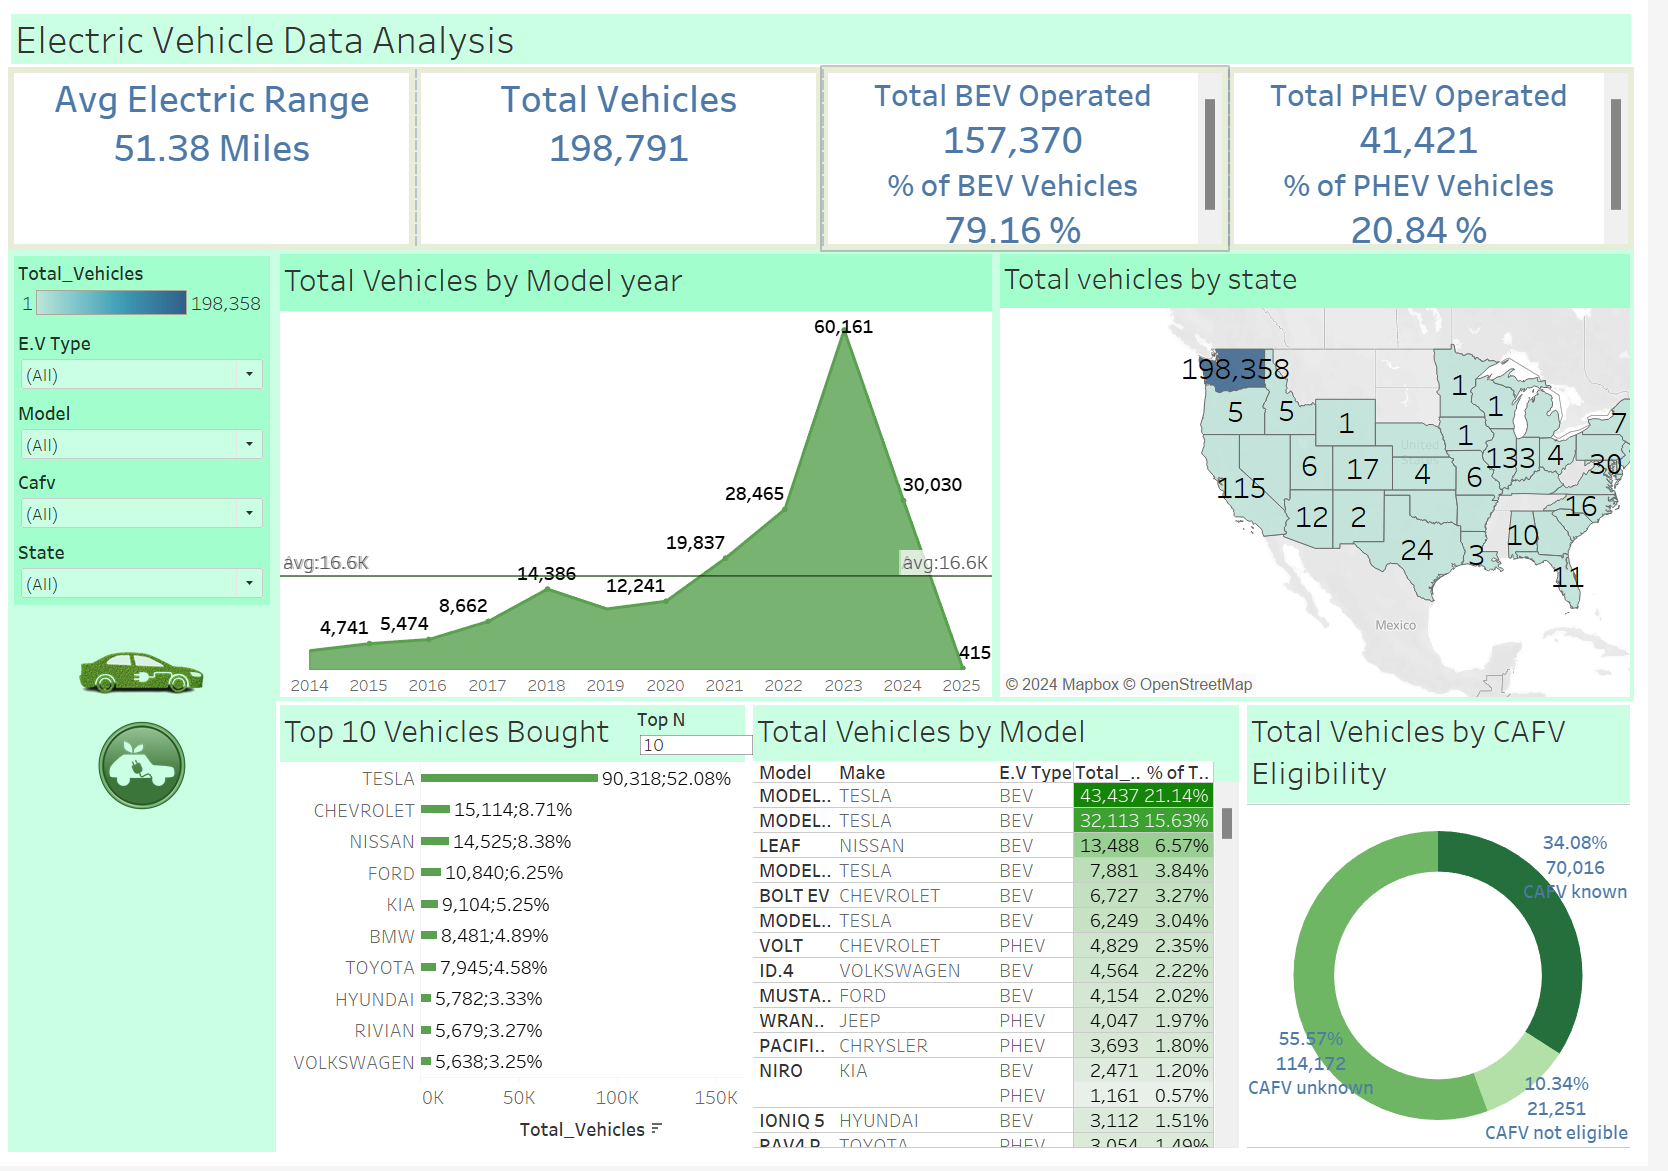

What the dashboard file says about the page in this screenshot:
{"tool":"tableau","page":{"name":"Ev_analysis_Dashboard","canvas":[1654,1169],"ordinal":0},"visuals":[{"type":"title","box":[14,14,1626,56]},{"type":"worksheet","title":"Average_Ev_Range","mark":"Automatic","box":[14,70,407,183]},{"type":"worksheet","title":"Total_Vehicles","mark":"Automatic","box":[421,70,407,183]},{"type":"worksheet","title":"Total_BEV_operated","mark":"Automatic","box":[828,70,406,183]},{"type":"worksheet","title":"Total_PHEV_operated","mark":"Automatic","box":[1234,70,406,183]},{"type":"worksheet","title":"Total Vehicles by Model year","mark":"Area","rows":["Calculation_7484982602795368448","Calculation_7484982602795368448"],"cols":["Model Year"],"box":[282,253,720.1,451]},{"type":"worksheet","title":"Total vehicles by state","mark":"Multipolygon","box":[1002.1,253,637.9,451]},{"type":"legend","title":"Total vehicles by state","param":"[federated.0c44xkc10yjfak12o5cvm190ijea].[usr:Calculation_7484982602795368448:qk","box":[20,259,256,69.8]},{"type":"filter","title":"Total Vehicles by Model year","param":"[federated.0c44xkc10yjfak12o5cvm190ijea].[none:E.V_Type:nk]","box":[20,328.8,256,69.8]},{"type":"filter","title":"Total Vehicles by Model year","param":"[federated.0c44xkc10yjfak12o5cvm190ijea].[none:Model:nk]","box":[20,398.6,256,69.8]},{"type":"filter","title":"Total Vehicles by Model year","param":"[federated.0c44xkc10yjfak12o5cvm190ijea].[none:CAFV:nk]","box":[20,468.5,256,69.8]},{"type":"filter","title":"Total Vehicles by Model year","param":"[federated.0c44xkc10yjfak12o5cvm190ijea].[none:State:nk]","box":[20,538.3,256,69.8]},{"type":"image","param":"Image/ev2-removebg-preview.png","box":[14,614.1,268,102.1]},{"type":"worksheet","title":"Top 10 Vehicles Bought","mark":"Automatic","rows":["Make"],"cols":["Calculation_7484982602795368448"],"box":[282,704,473,451]},{"type":"worksheet","title":"Total Vehicles by Model","mark":"Square","rows":["Model","Make","E.V_Type"],"box":[755,704,494.4,451]},{"type":"worksheet","title":"Total Vehicles by CAFV Eligibility","mark":"Pie","rows":["Calculation_7484982602997284871","Calculation_7484982602997284871"],"box":[1249.4,704,390.6,451]},{"type":"parameter","param":"[Parameters].[Parameter 1]","box":[643,709,119,49]},{"type":"image","param":"Image/ev1-removebg-preview.png","box":[14,716.3,268,102.1]},{"type":"blank","box":[14,818.4,268,84.1]},{"type":"blank","box":[14,902.6,268,84.1]},{"type":"blank","box":[14,986.7,268,84.1]},{"type":"blank","box":[14,1070.9,268,84.1]}]}

Visuals, with their boxes in screenshot pixels (x1, y1, x2, y2), scaled from the page's 1654x1169 canvas onto the 1668x1171 screenshot:
title: bbox=[14, 14, 1654, 70]
"Average_Ev_Range" worksheet: bbox=[14, 70, 425, 253]
"Total_Vehicles" worksheet: bbox=[425, 70, 835, 253]
"Total_BEV_operated" worksheet: bbox=[835, 70, 1244, 253]
"Total_PHEV_operated" worksheet: bbox=[1244, 70, 1654, 253]
"Total Vehicles by Model year" worksheet (Area marks): bbox=[284, 253, 1011, 705]
"Total vehicles by state" worksheet (Multipolygon marks): bbox=[1011, 253, 1654, 705]
"Total vehicles by state" legend: bbox=[20, 259, 278, 329]
"Total Vehicles by Model year" filter: bbox=[20, 329, 278, 399]
"Total Vehicles by Model year" filter: bbox=[20, 399, 278, 469]
"Total Vehicles by Model year" filter: bbox=[20, 469, 278, 539]
"Total Vehicles by Model year" filter: bbox=[20, 539, 278, 609]
image: bbox=[14, 615, 284, 717]
"Top 10 Vehicles Bought" worksheet: bbox=[284, 705, 761, 1157]
"Total Vehicles by Model" worksheet (Square marks): bbox=[761, 705, 1260, 1157]
"Total Vehicles by CAFV Eligibility" worksheet (Pie marks): bbox=[1260, 705, 1654, 1157]
parameter: bbox=[648, 710, 768, 759]
image: bbox=[14, 718, 284, 820]
blank: bbox=[14, 820, 284, 904]
blank: bbox=[14, 904, 284, 988]
blank: bbox=[14, 988, 284, 1073]
blank: bbox=[14, 1073, 284, 1157]
